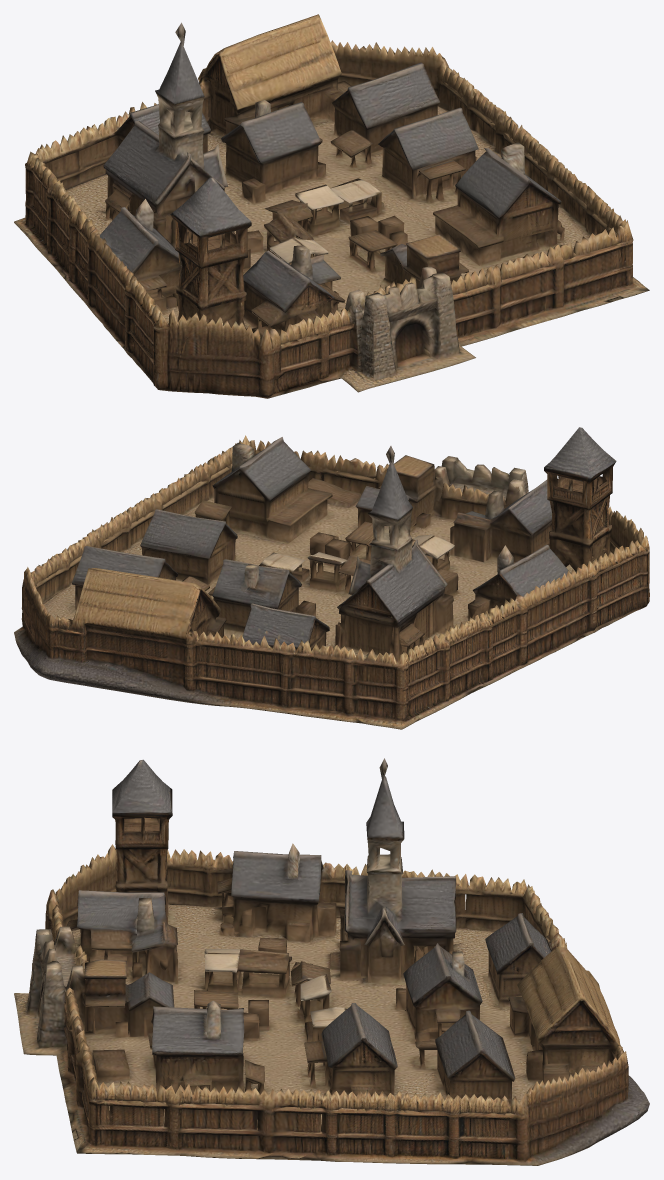
File: Люди2.glb
The picture shows the model from 3 angles, top to bottom: view 1: azimuth 30°, elevation 25°; view 2: azimuth 150°, elevation 25°; view 3: azimuth 270°, elevation 25°; orthographic projection. The views are drawn at different scales.
Visible parts, largest first — view 1: tripo_node_1f1306d7-8dfa-4343-9064-5aebe66af989; view 2: tripo_node_1f1306d7-8dfa-4343-9064-5aebe66af989; view 3: tripo_node_1f1306d7-8dfa-4343-9064-5aebe66af989.
Part boxes in pixels (left/top/right/bottom): tripo_node_1f1306d7-8dfa-4343-9064-5aebe66af989: left=14, top=14, right=649, bottom=398; tripo_node_1f1306d7-8dfa-4343-9064-5aebe66af989: left=14, top=427, right=649, bottom=729; tripo_node_1f1306d7-8dfa-4343-9064-5aebe66af989: left=14, top=758, right=649, bottom=1165.
Bounding box in the file's own units: 0.9177 × 0.415 × 1.
1 material, 1 textured.
